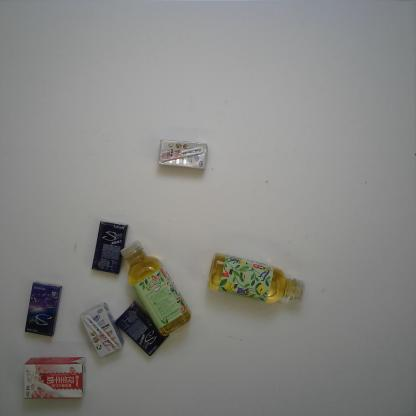Drink: (120, 240, 192, 336), (207, 253, 306, 305)
Gum: (115, 300, 170, 356), (91, 219, 128, 274), (25, 282, 62, 337)
Milk: (24, 357, 84, 399), (80, 301, 124, 358), (158, 139, 209, 170)
